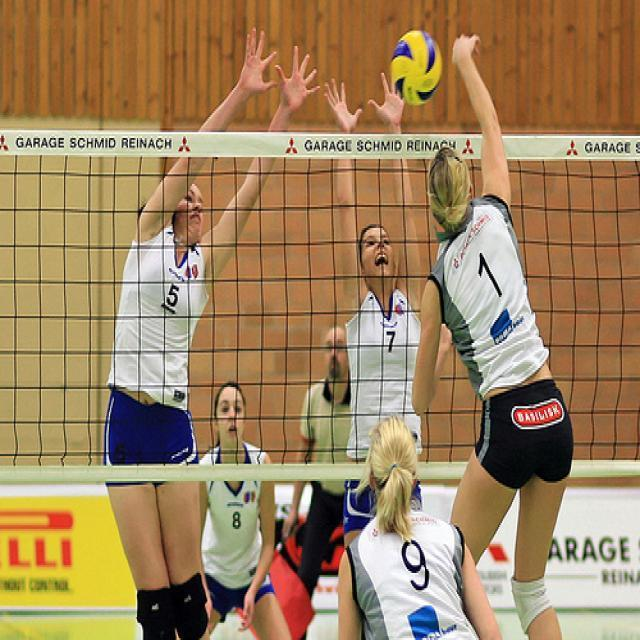volleyball: (391, 30, 442, 106)
